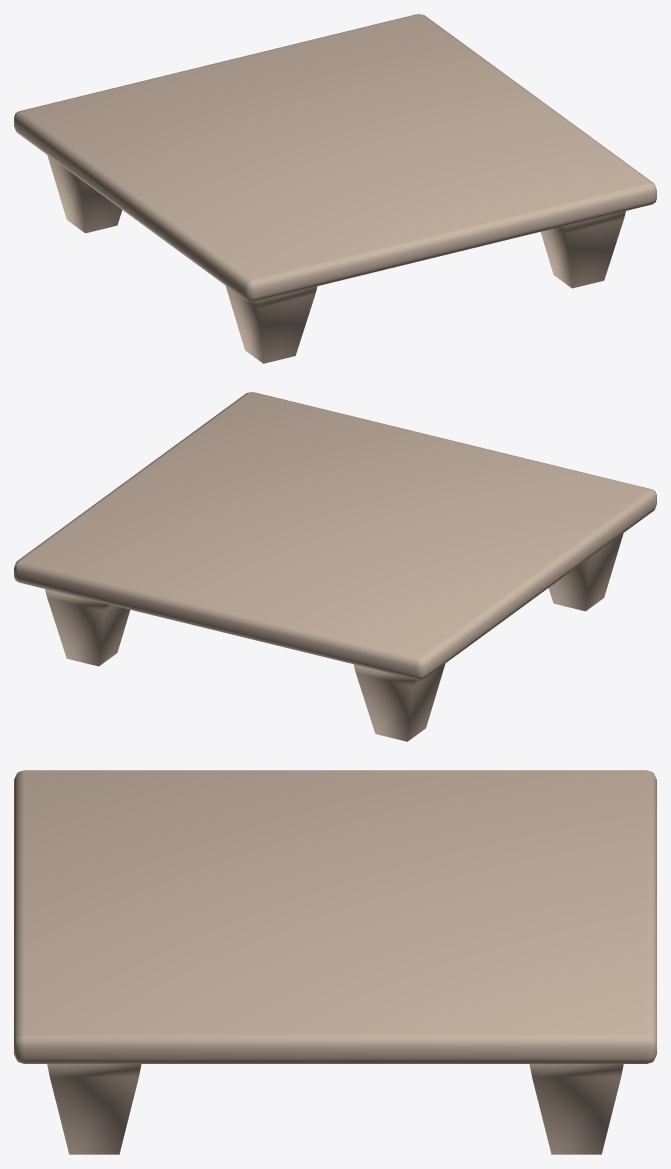
Rendered from white coffee table.fbx.
3 renders of one model, top to bottom at view 1: azimuth 30°, elevation 25°; view 2: azimuth 150°, elevation 25°; view 3: azimuth 270°, elevation 25°, orthographic. The views are drawn at different scales.
Parts seen in each view (by area): view 1: Cube; view 2: Cube; view 3: Cube.
Part boxes in pixels (left/top/right/bottom): Cube: left=14, top=14, right=656, bottom=363; Cube: left=14, top=392, right=656, bottom=741; Cube: left=14, top=770, right=656, bottom=1154.
Bounding box in the file's own units: 179 × 42.99 × 179.
